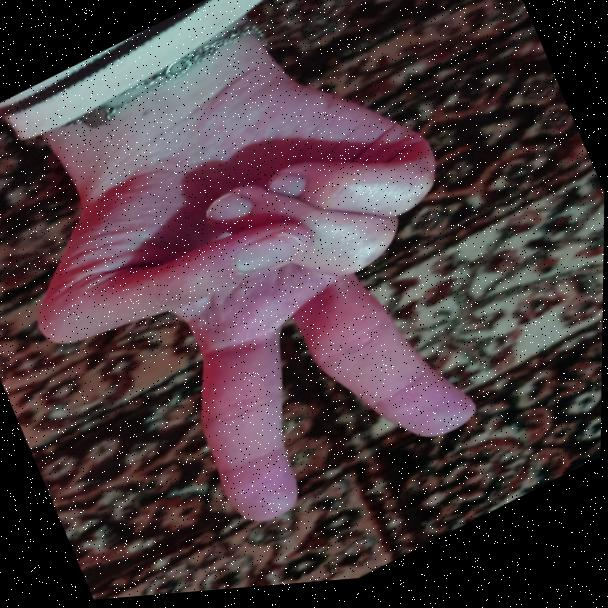two: (0, 23, 527, 603)
